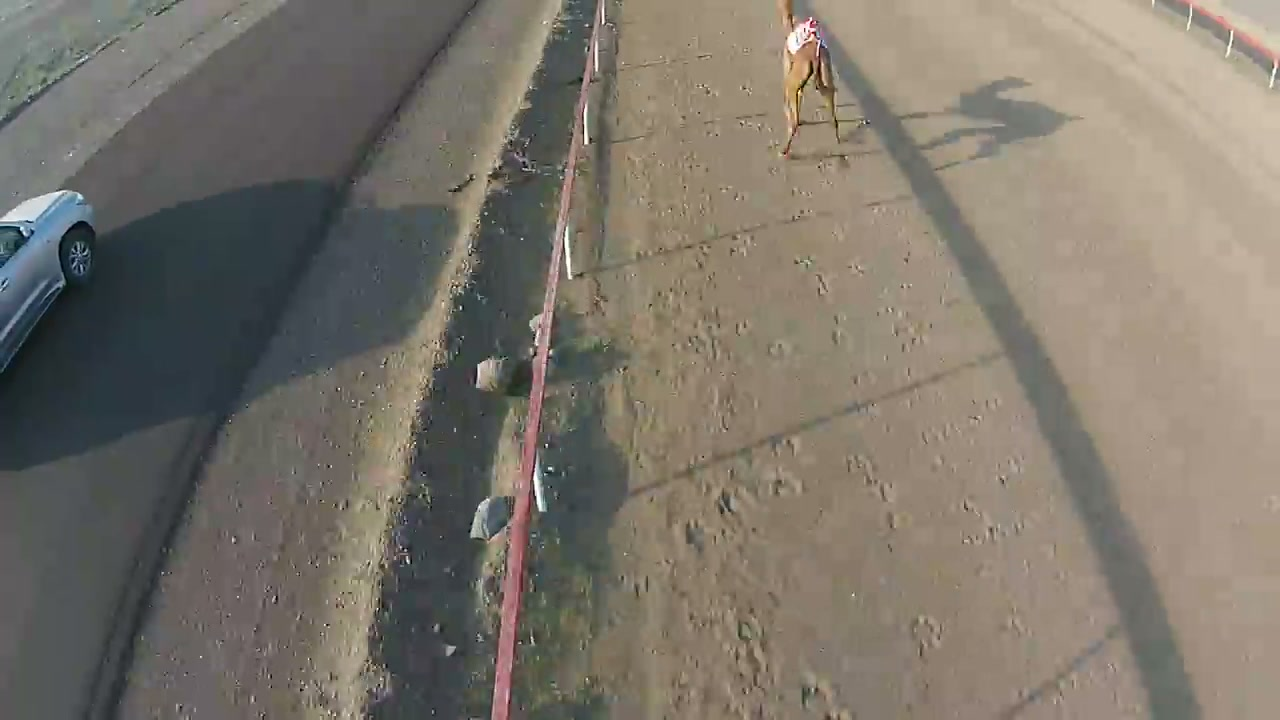animal_foot_print: (780, 147, 988, 648)
